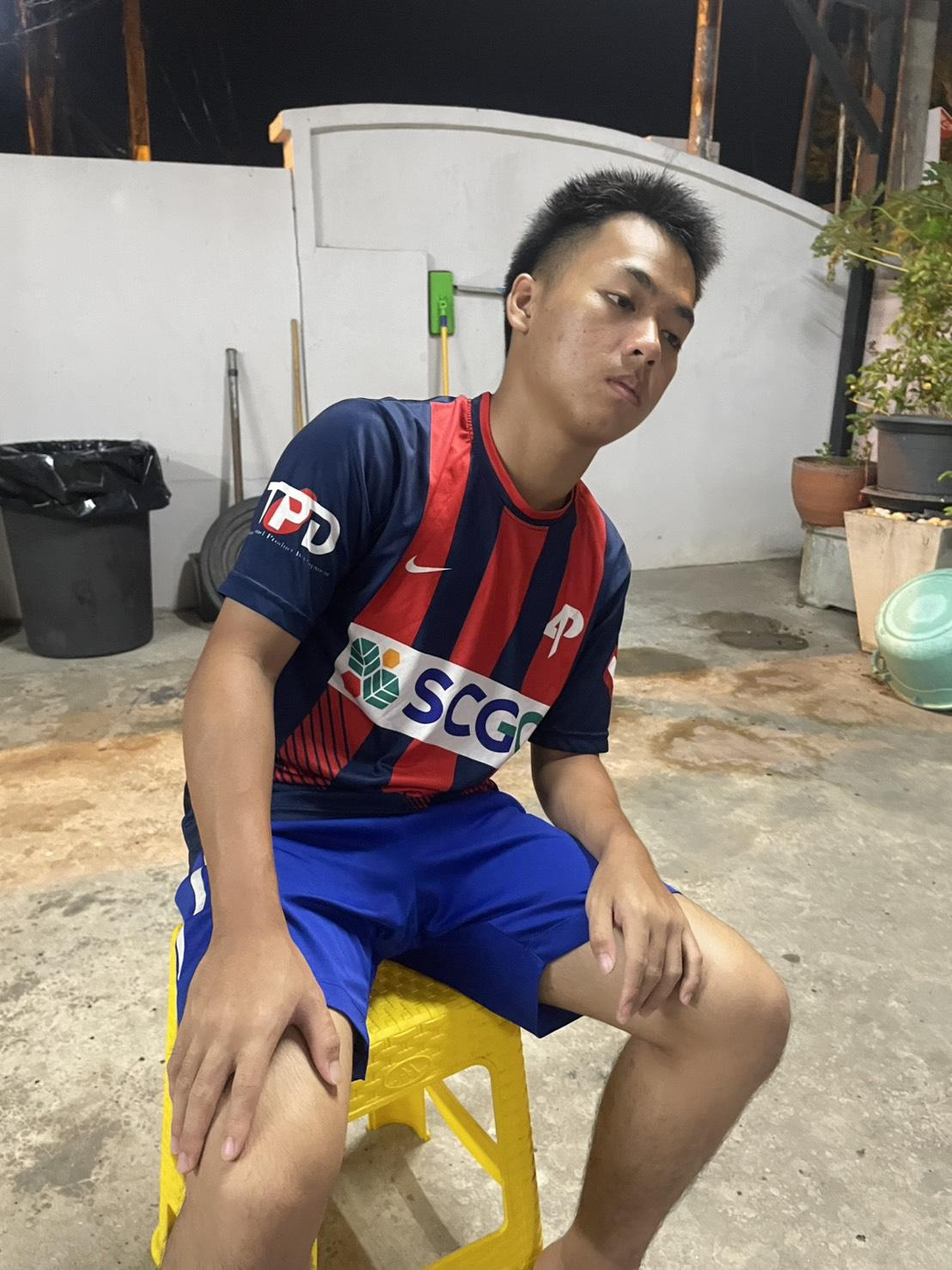BadPosture: (161, 165, 790, 1269)
